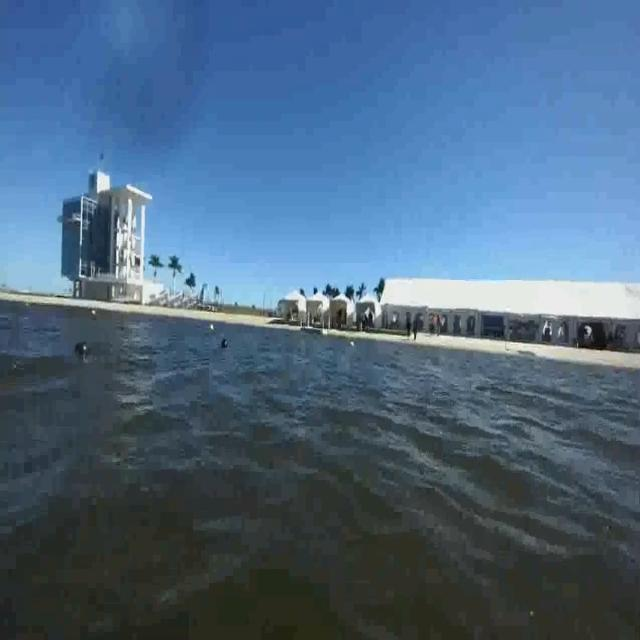black-buoy: (74, 340, 91, 361)
